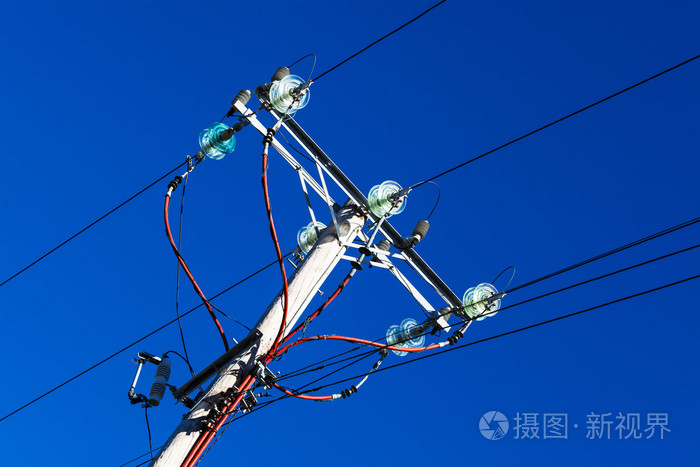insulator: (270, 72, 314, 114), (459, 282, 504, 323), (367, 180, 410, 220), (200, 119, 239, 162), (383, 317, 424, 357), (295, 219, 324, 254)
